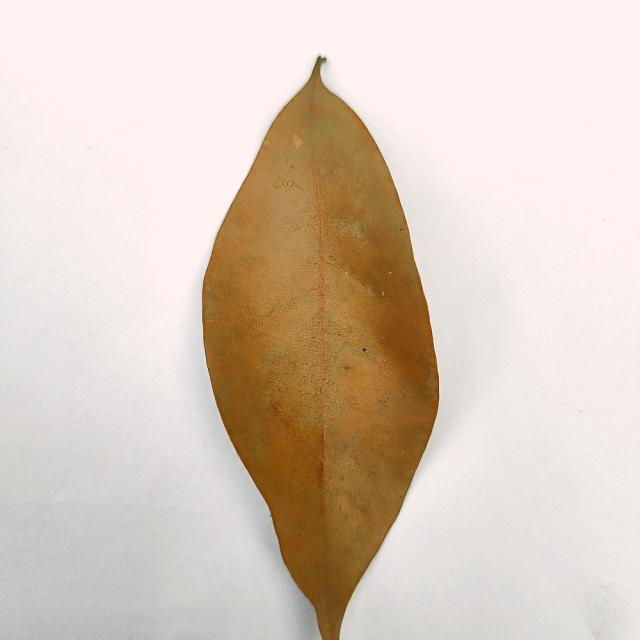Dry_Leaf-Lychee: (200, 58, 440, 639)
